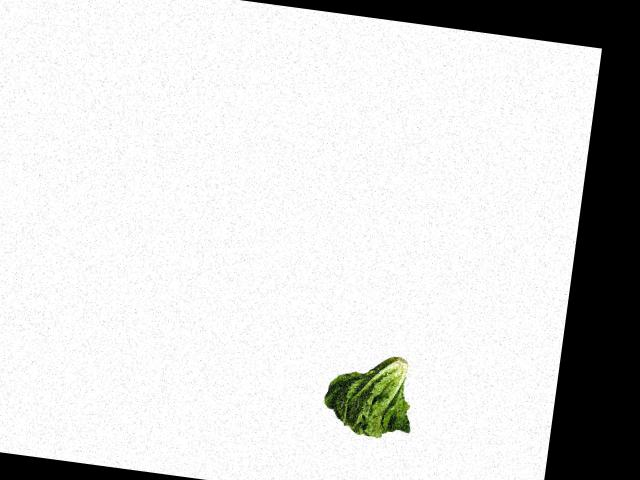lettuce: (318, 343, 422, 445)
